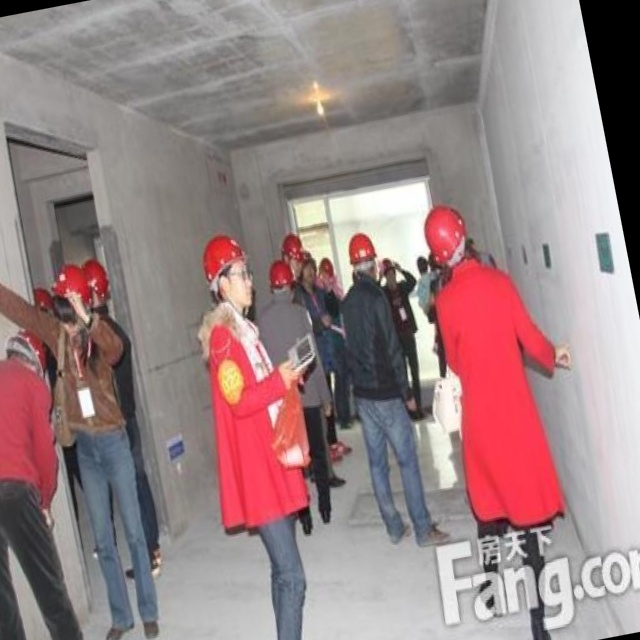Con_Casco: (197, 230, 261, 317), (421, 199, 473, 269)
